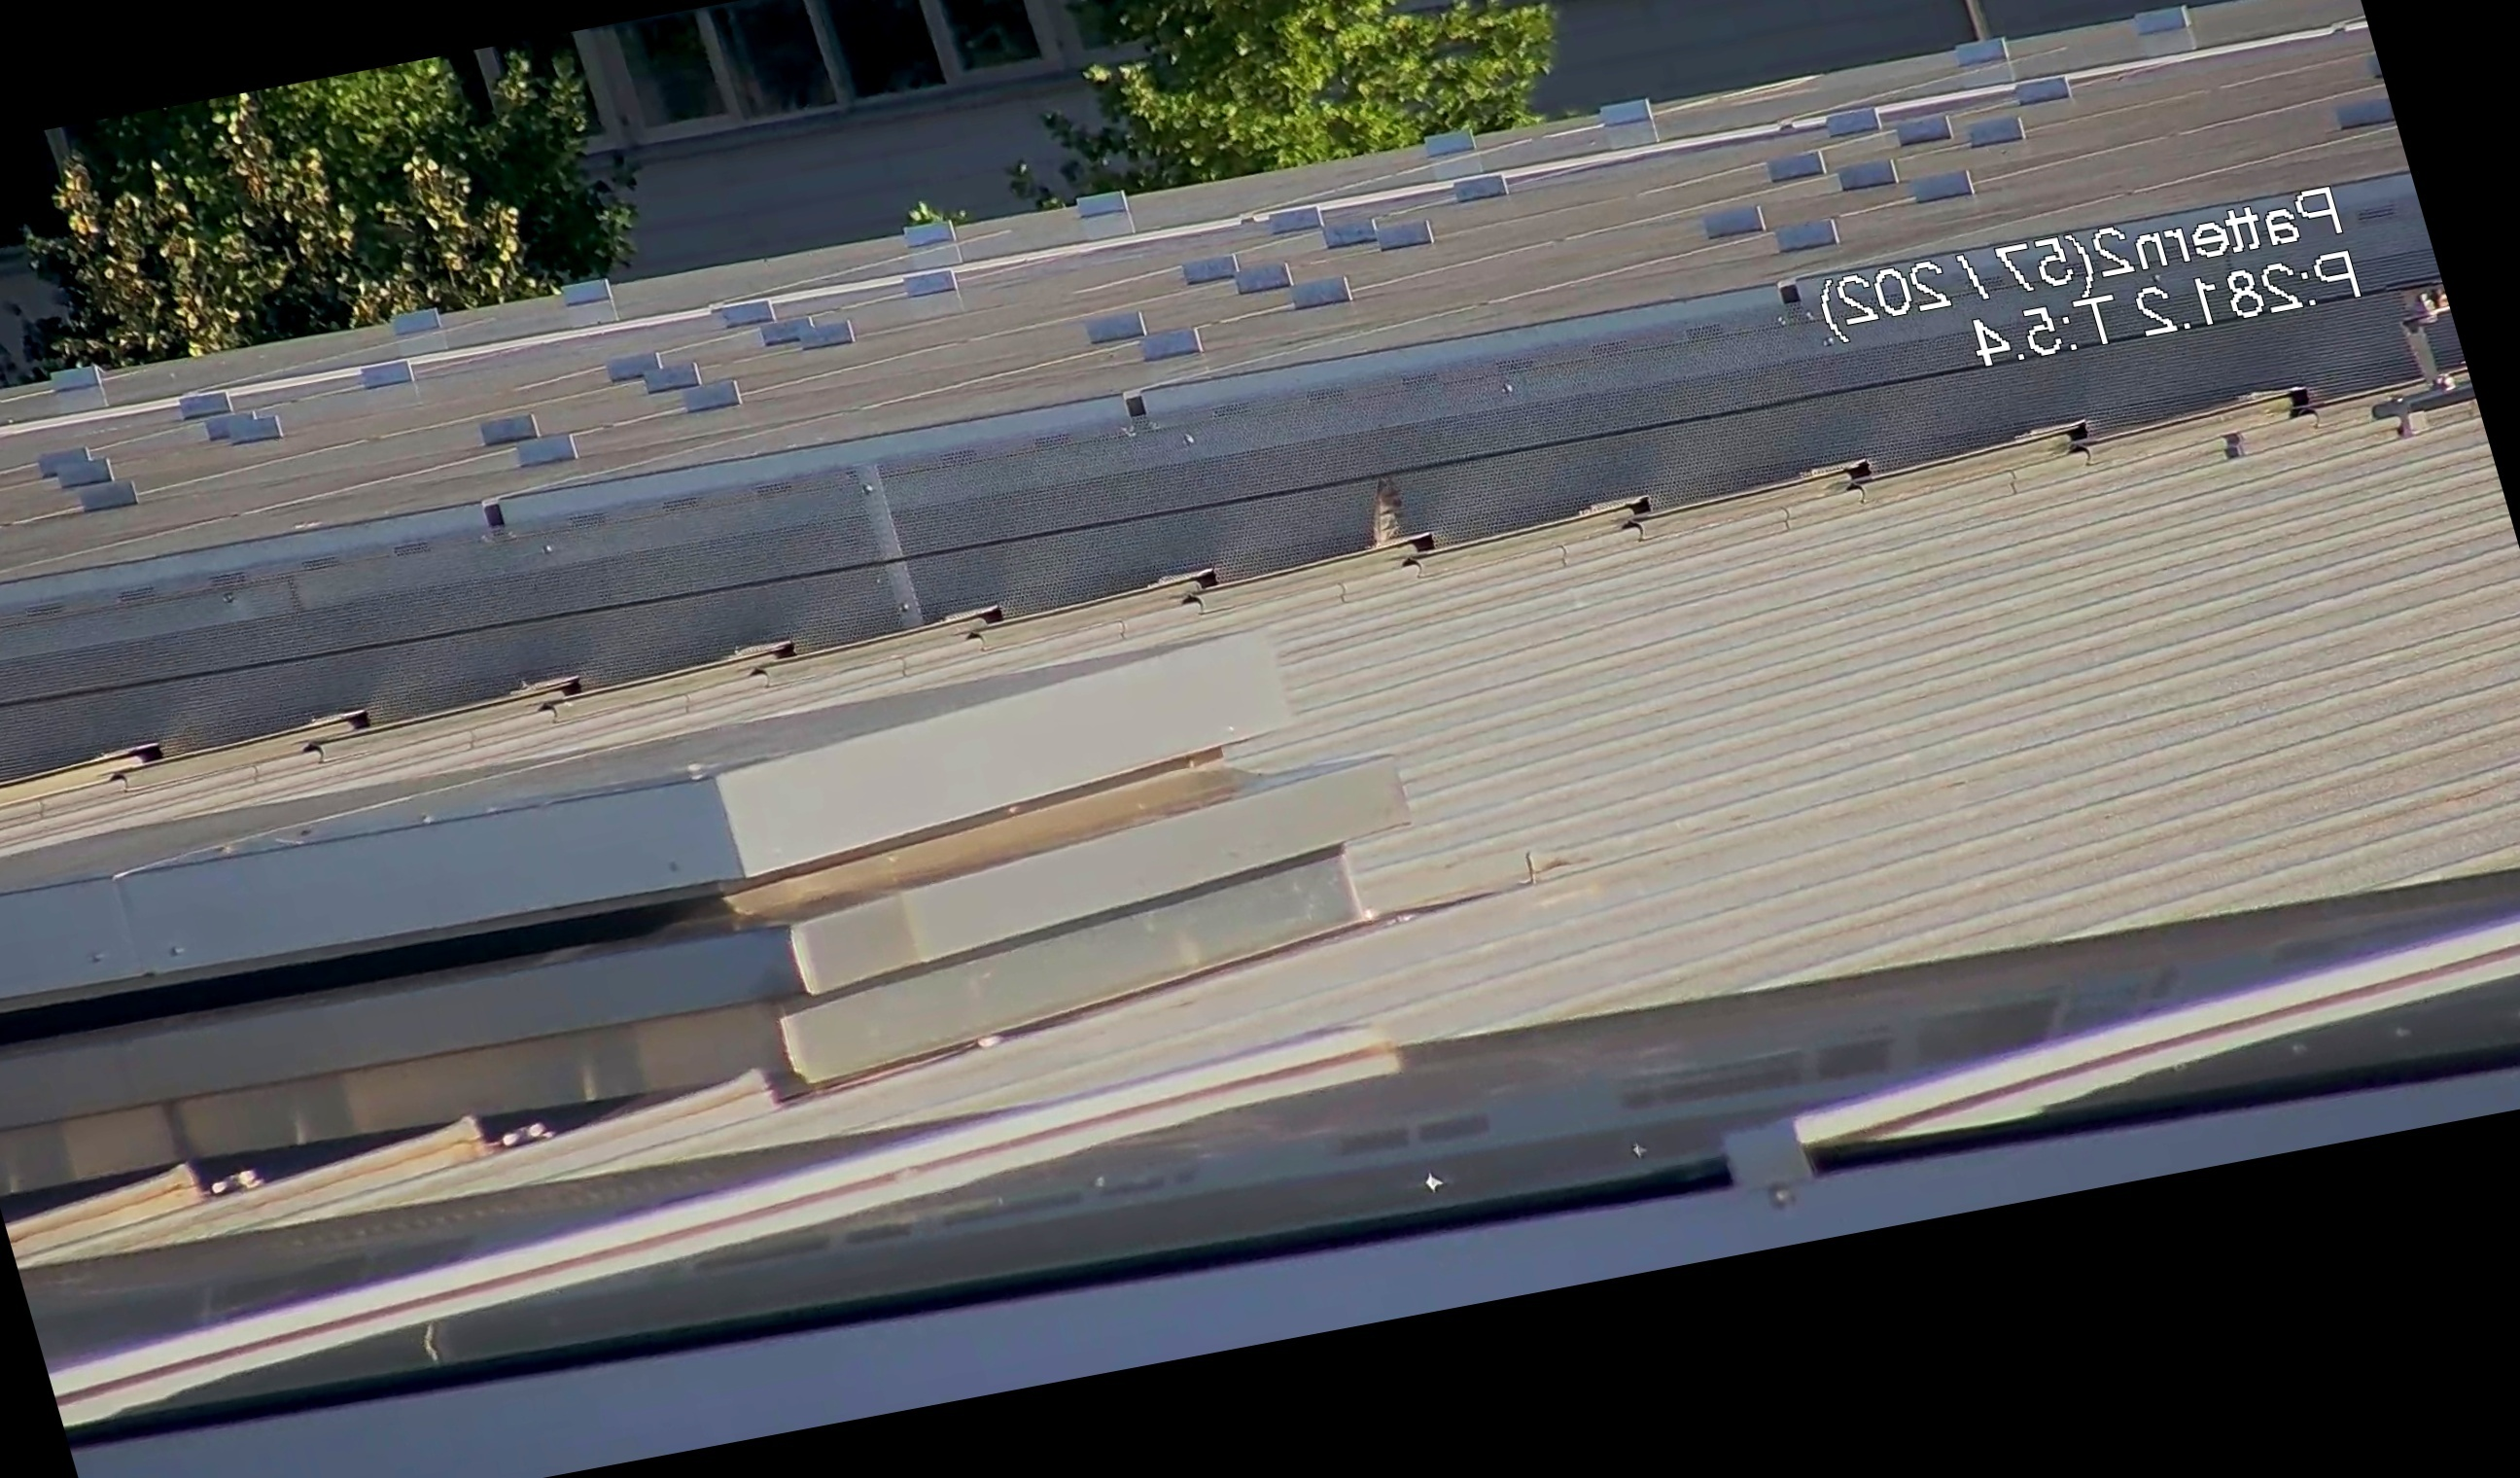Other: (1345, 454, 1447, 574)
